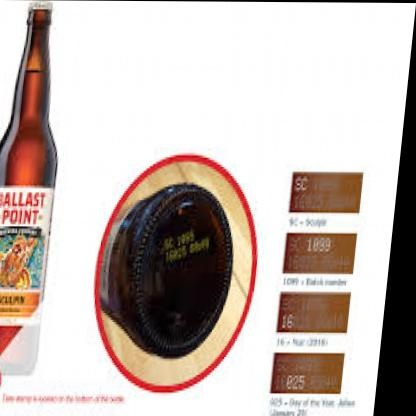trash: (95, 155, 255, 391), (0, 8, 56, 374)
